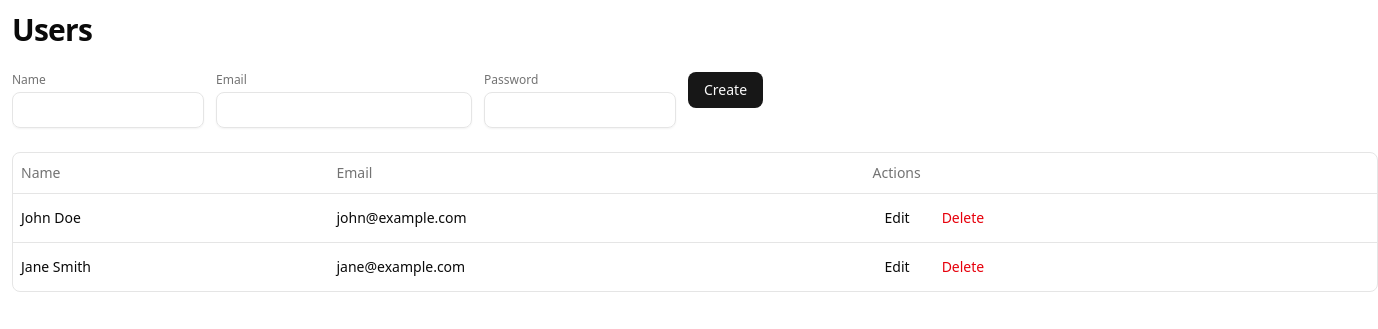
it: UsersPage › shows validation error for invalid email
Expected: the text "John Doe" is shown, [13, 193, 328, 242]
Type "Test User" into the field labelled "Name".
click(108, 110); type("Test User")  # box [12, 92, 204, 128]
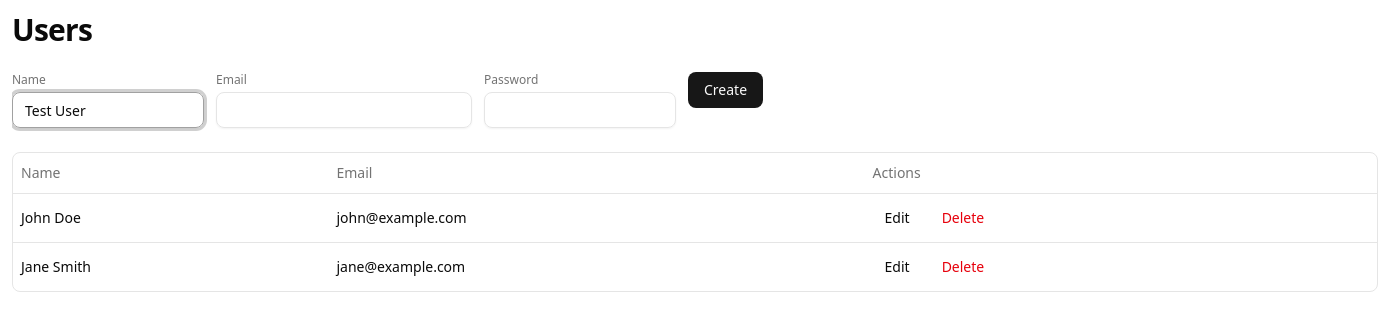
Type "invalid-email" into the field labelled "Email".
click(344, 110); type("invalid-email")  # box [216, 92, 472, 128]
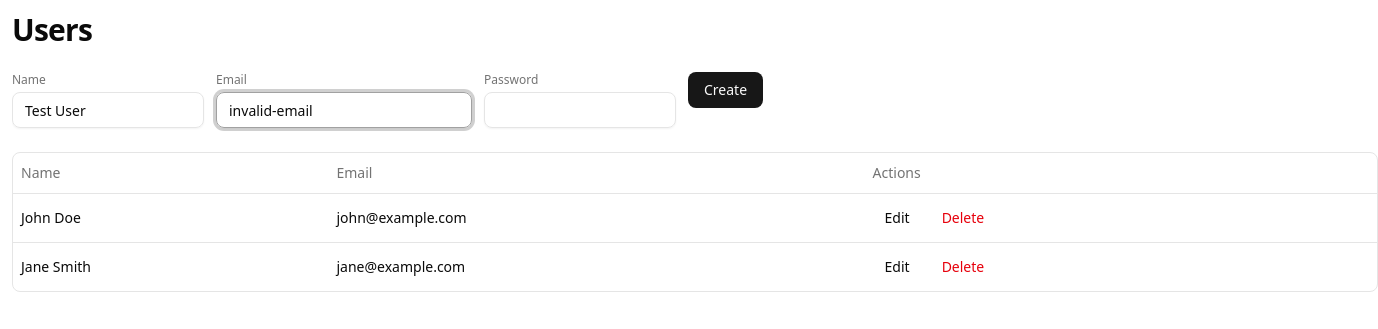
Type "password123" into the password field labelled "Password".
click(580, 110); type("password123")  # box [484, 92, 676, 128]
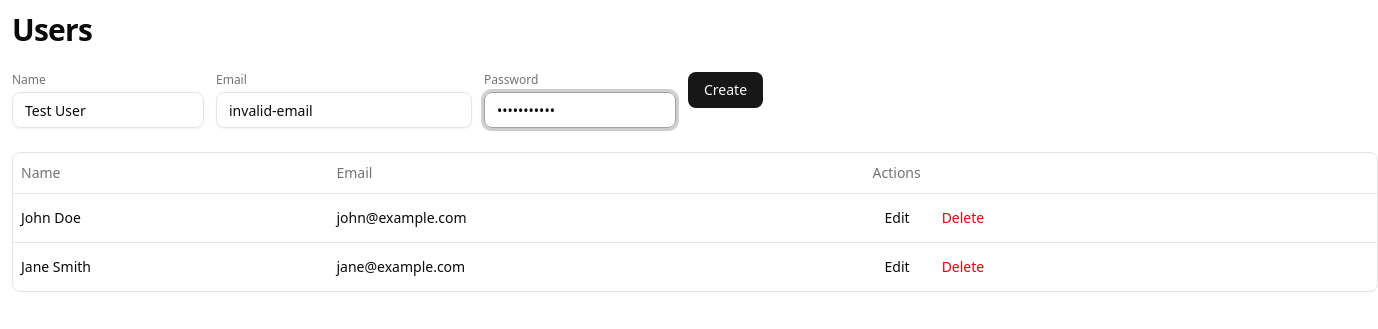
Click the button "Create".
click(726, 90)  # box [688, 72, 763, 108]
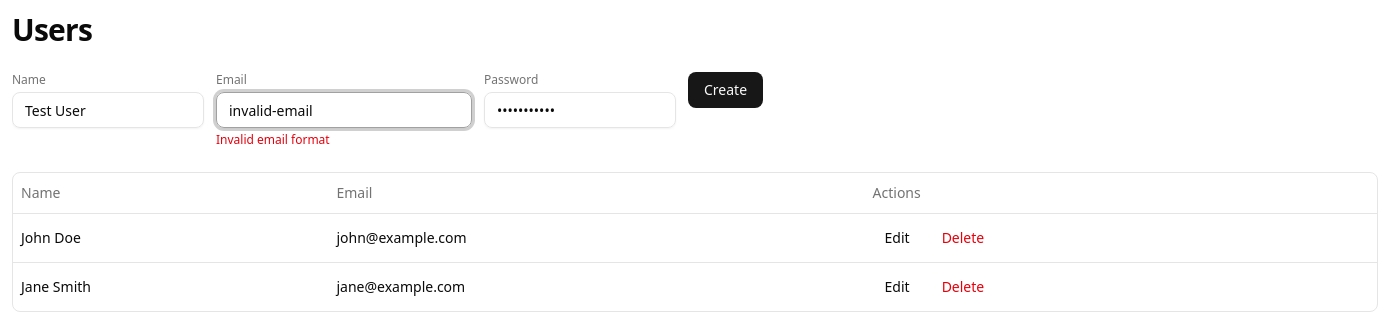
Expected: the text "Invalid email format" is shown, [216, 131, 330, 148]
